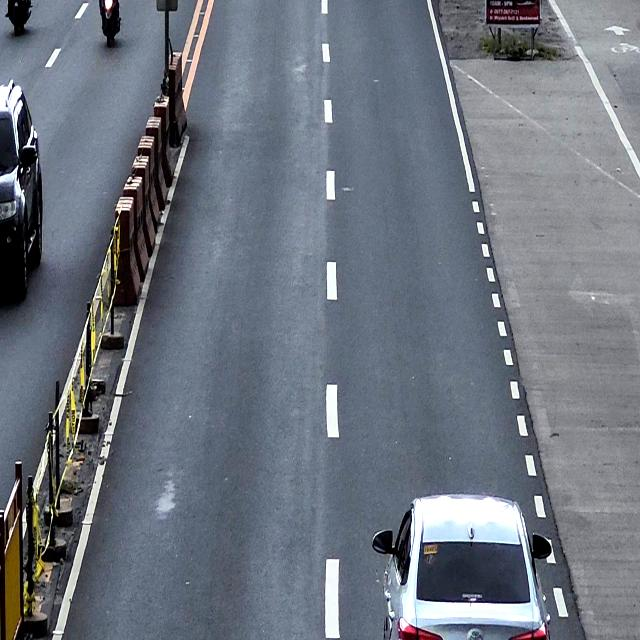Car: (372, 492, 552, 640), (0, 78, 43, 298)
Motorcycle: (98, 0, 121, 47), (6, 0, 32, 36)
